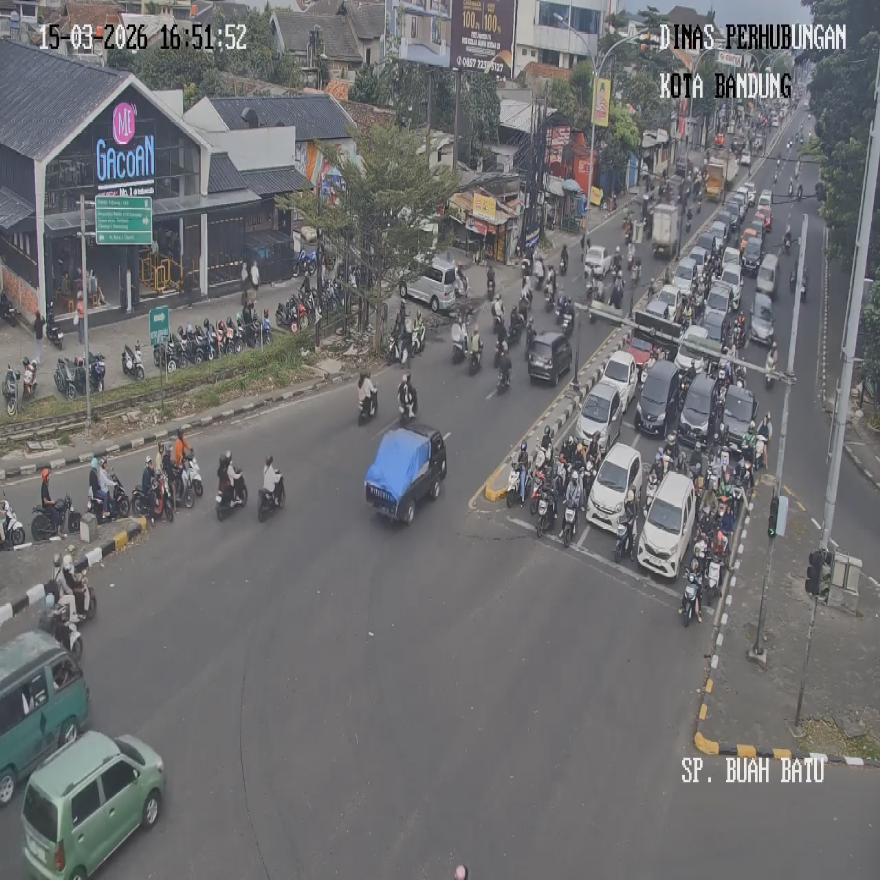Motor: (20, 730, 164, 878), (0, 628, 89, 806), (364, 423, 447, 522), (636, 469, 696, 578), (577, 378, 623, 463)
Truk: (39, 605, 82, 660), (30, 493, 73, 540), (87, 475, 130, 522), (57, 574, 96, 624), (215, 467, 247, 519), (176, 456, 204, 508), (256, 469, 284, 520), (0, 500, 25, 550), (680, 572, 702, 626), (150, 473, 174, 522), (613, 514, 635, 564), (534, 486, 556, 536), (53, 357, 77, 401), (153, 336, 176, 375), (559, 499, 577, 548), (85, 350, 105, 394), (121, 342, 144, 380), (398, 374, 416, 420), (706, 554, 724, 600), (506, 461, 523, 508), (3, 364, 18, 416), (358, 386, 377, 424), (46, 310, 64, 348), (21, 358, 37, 400), (452, 324, 468, 365), (558, 297, 574, 337), (410, 314, 426, 353), (468, 336, 484, 375), (387, 332, 405, 366), (0, 290, 16, 325), (496, 358, 512, 391), (544, 272, 556, 310), (485, 268, 495, 300), (558, 247, 567, 275), (782, 231, 792, 252), (799, 278, 806, 300)
